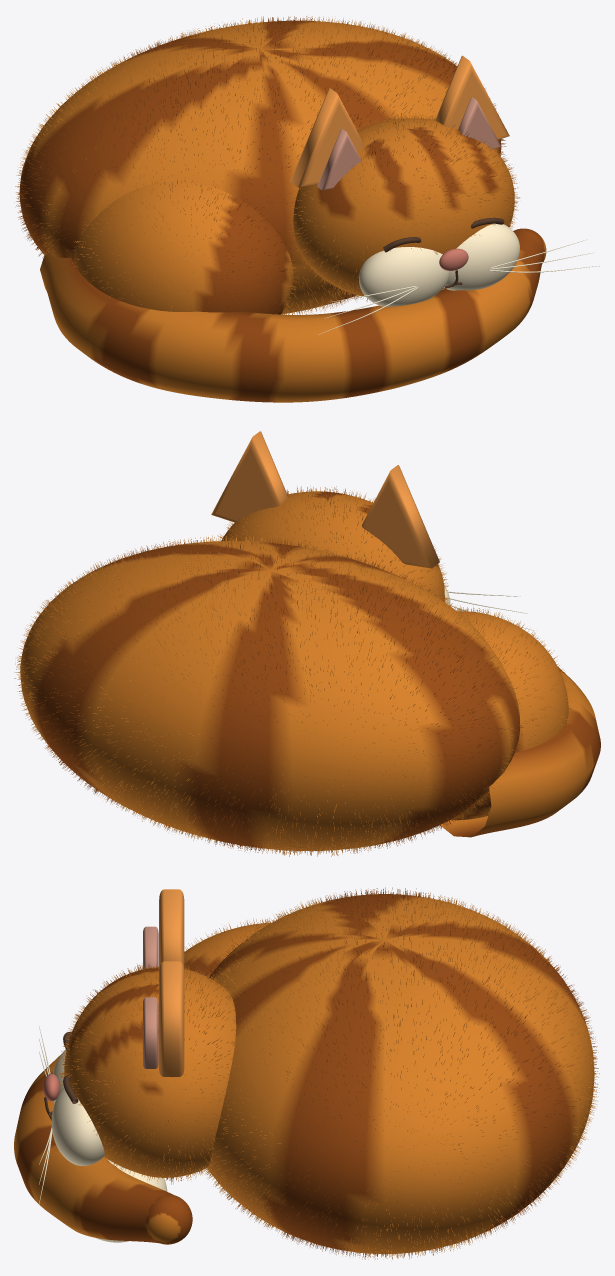
Rendered from sleeping-cat.glb.
The picture shows the model from 3 angles, top to bottom: view 1: azimuth 30°, elevation 25°; view 2: azimuth 150°, elevation 25°; view 3: azimuth 270°, elevation 25°; orthographic projection. The views are drawn at different scales.
Parts seen in each view (by area): view 1: Curled torso, Wrapped striped tail, Broad rounded face, Curled haunch, Ginger fur fibers, Left cream cheek, Right cream cheek, Soft outer ear, Ginger fur fibers.002, Soft outer ear.001, Inset pink ear, Ginger fur fibers.001 (+2 smaller); view 2: Curled torso, Ginger fur fibers, Wrapped striped tail, Broad rounded face, Curled haunch, Soft outer ear, Soft outer ear.001, Ginger fur fibers.002, Ginger fur fibers.001; view 3: Curled torso, Broad rounded face, Ginger fur fibers, Wrapped striped tail, Ginger fur fibers.002, Soft outer ear.001, Right cream cheek, Soft outer ear, Curled haunch, Rounded tail tip, Inset pink ear.001, Inset pink ear.
Part boxes in pixels (bbox=[...]): Curled torso: bbox=[19, 20, 501, 313]; Wrapped striped tail: bbox=[40, 232, 544, 402]; Broad rounded face: bbox=[293, 118, 514, 296]; Curled haunch: bbox=[71, 181, 293, 314]; Ginger fur fibers: bbox=[14, 16, 506, 314]; Left cream cheek: bbox=[359, 247, 448, 306]; Right cream cheek: bbox=[443, 223, 519, 290]; Soft outer ear: bbox=[290, 88, 364, 187]; Ginger fur fibers.002: bbox=[289, 112, 519, 301]; Soft outer ear.001: bbox=[435, 55, 509, 139]; Inset pink ear: bbox=[317, 128, 361, 190]; Ginger fur fibers.001: bbox=[66, 175, 297, 314]; Curled torso: bbox=[20, 541, 520, 850]; Ginger fur fibers: bbox=[14, 535, 524, 856]; Wrapped striped tail: bbox=[440, 667, 600, 837]; Broad rounded face: bbox=[221, 491, 444, 601]; Curled haunch: bbox=[451, 611, 568, 820]; Soft outer ear: bbox=[362, 465, 439, 568]; Soft outer ear.001: bbox=[211, 431, 288, 522]; Ginger fur fibers.002: bbox=[215, 486, 449, 602]; Ginger fur fibers.001: bbox=[439, 605, 572, 828]; Curled torso: bbox=[207, 894, 594, 1254]; Broad rounded face: bbox=[64, 967, 236, 1177]; Ginger fur fibers: bbox=[204, 887, 599, 1259]; Wrapped striped tail: bbox=[14, 1055, 173, 1243]; Ginger fur fibers.002: bbox=[58, 963, 238, 1184]; Soft outer ear.001: bbox=[159, 961, 184, 1076]; Right cream cheek: bbox=[51, 1088, 104, 1165]; Soft outer ear: bbox=[159, 889, 184, 969]; Curled haunch: bbox=[184, 922, 270, 976]; Rounded tail tip: bbox=[146, 1194, 192, 1244]; Inset pink ear.001: bbox=[143, 997, 158, 1068]; Inset pink ear: bbox=[143, 926, 158, 968].
Size of the model in its own units: 2.16 by 1.24 by 2.1.
